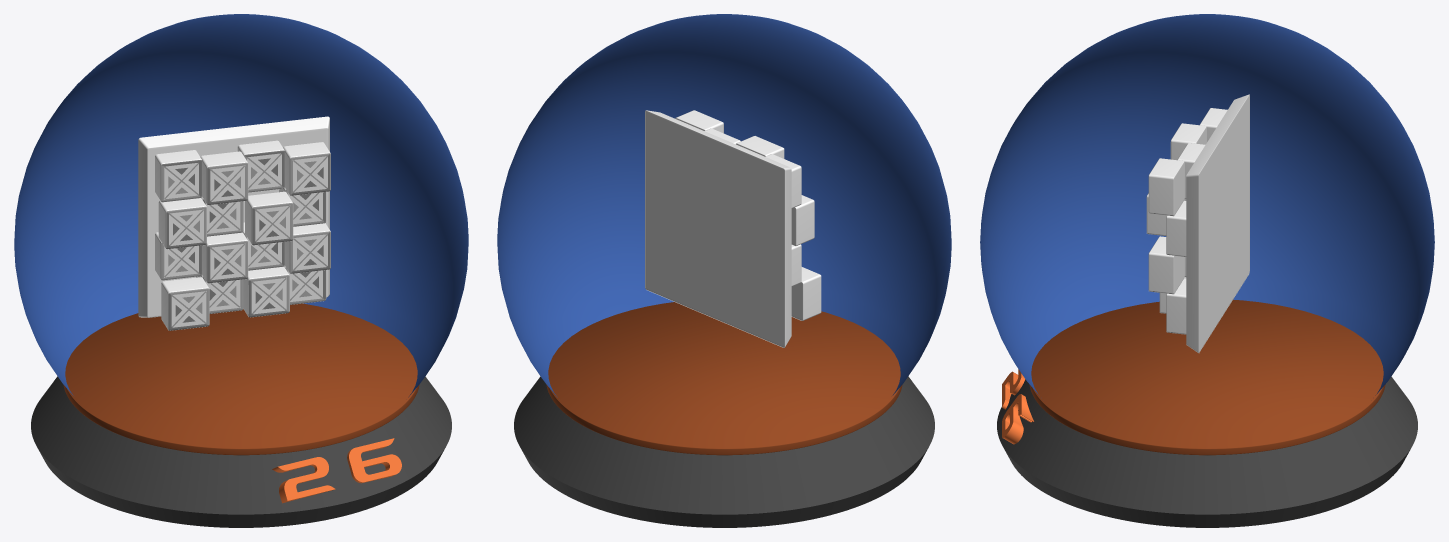
File: Curio_26.glb
3 views of the same model, side by side, from view 1: azimuth 30°, elevation 25°; view 2: azimuth 150°, elevation 25°; view 3: azimuth 270°, elevation 25° (orthographic).
Visible parts, largest first — view 1: Sphere.086, Sphere.085, Cube.038, Sphere.084, Text.033; view 2: Sphere.086, Sphere.085, Sphere.084, Cube.038; view 3: Sphere.086, Sphere.085, Sphere.084, Cube.038, Text.033.
Boxes of the visible parts, x1,y1,x2,y2 form: Sphere.086: (14,14,468,397); Sphere.085: (63,303,419,455); Cube.038: (138,116,330,330); Sphere.084: (31,376,451,527); Text.033: (272,438,401,503); Sphere.086: (497,14,951,397); Sphere.085: (546,302,902,455); Sphere.084: (514,376,934,527); Cube.038: (645,110,821,347); Sphere.086: (980,14,1434,395); Sphere.085: (1029,299,1385,455); Sphere.084: (997,376,1417,527); Cube.038: (1146,94,1249,353); Text.033: (1002,369,1033,444).
Size of the model in its own units: 4.66 by 4.62 by 4.66.
